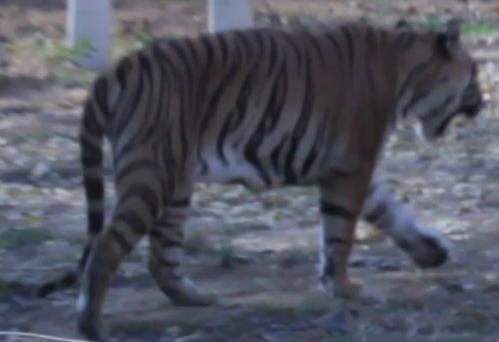tiger: (78, 20, 480, 339)
